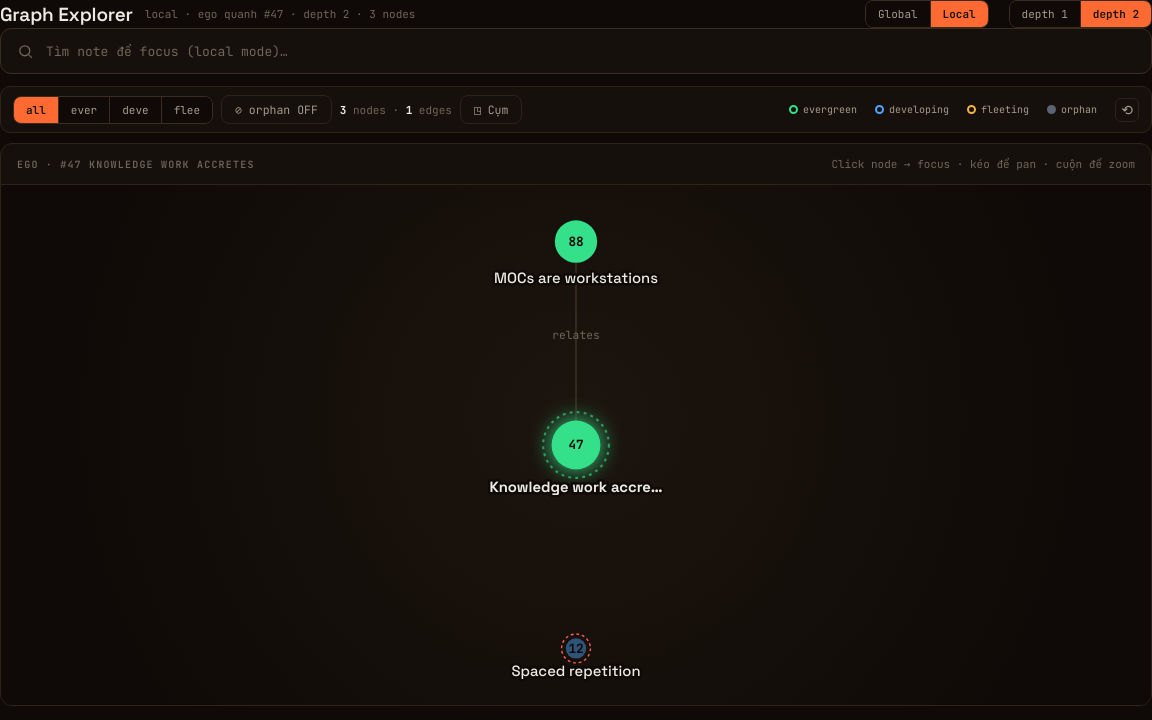
Scenario: W4 Graph Explorer › HONEST: empty clusters → cluster-hint empty state (no fabricated MOC suggestion)
Note: (D) clusters live in a collapsible popover now — open it first.
Click the button with test id "graph-clusters-toggle" at (491, 110), box [460,95,522,124]
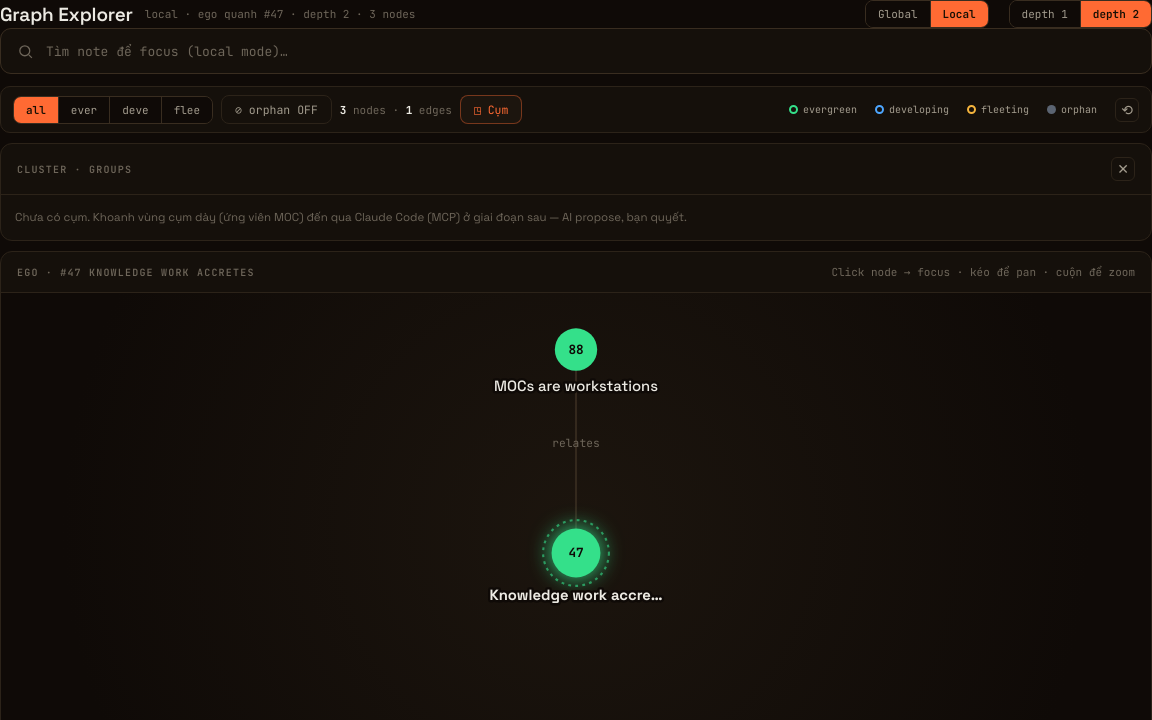
Now the text with test id "graph-cluster-empty" shows "Claude Code", box [15,210,687,224]
